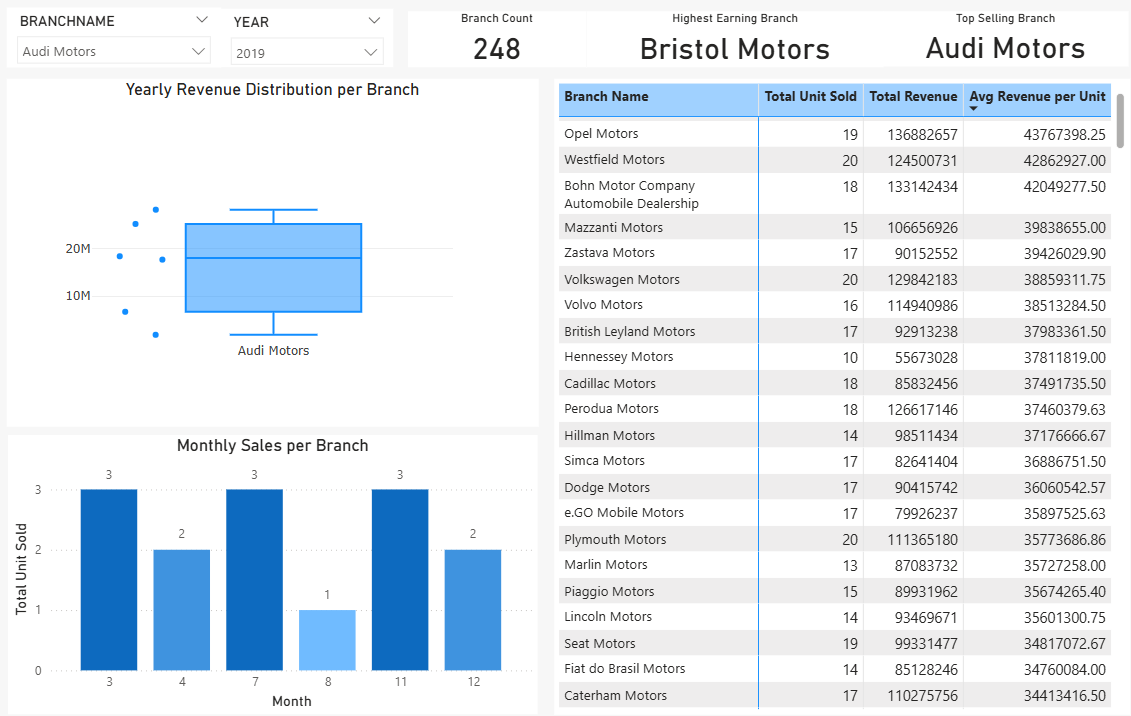

The dashboard page shown, as its layout file describes it:
{"tool":"powerbi","page":{"name":"branch  overview dashboard","canvas":[1150,720],"ordinal":2},"visuals":[{"type":"slicer","fields":{"Values":["DM_BRANCH_SNAPSHOT.BRANCHNAME"]},"box":[8.8,8.1,214.3,60],"z":0,"group":"g1"},{"type":"pivotTable","fields":{"Values":["Sum(DM_BRANCH_SNAPSHOT.TOTAL_SOLD)","Sum(DM_BRANCH_SNAPSHOT.TOTAL_REVENUE)","Sum(DM_BRANCH_SNAPSHOT.AVG_REV_PER_UNIT)"],"Rows":["DM_BRANCH_SNAPSHOT.BRANCHNAME"]},"box":[555.7,78.6,575.7,635.7],"z":0},{"type":"group","id":"g1","title":"Group 1","box":[8.8,8.1,214.3,60],"z":1000},{"type":"slicer","fields":{"Values":["DM_BRANCH_SNAPSHOT.YEAR"]},"box":[222.9,8.6,172.9,58.6],"z":2000},{"type":"card","title":"Branch Count","fields":{"Values":["Count(DM_BRANCH_SNAPSHOT.BRANCHNAME)"]},"box":[410.6,11.3,178,56],"z":3000},{"type":"card","title":"Highest Earning Branch","fields":{"Values":["DM_BRANCH_SNAPSHOT.Highest revenue branch name"]},"box":[588.6,11.3,297,56],"z":4000},{"type":"lineClusteredColumnComboChart","title":"Monthly Sales per Branch","fields":{"Category":["DM_BRANCH_SNAPSHOT.MONTH"],"Y":["Sum(DM_BRANCH_SNAPSHOT.TOTAL_SOLD)"]},"box":[9.9,434.9,529.4,279.5],"z":4000,"group":"g2"},{"type":"card","title":"Top Selling Branch","fields":{"Values":["DM_BRANCH_SNAPSHOT.Best selling branch name"]},"box":[885,11.2,245.6,55.6],"z":5000},{"type":"group","id":"g2","title":"Group 2","box":[8.6,78.6,531.4,635.7],"z":6000},{"type":"boxPloty6C987A9E682A4A859272BFEC966AF372","title":"Yearly Revenue Distribution per Branch","fields":{"category":["DM_BRANCH_SNAPSHOT.BRANCHNAME"],"measure":["DM_BRANCH_SNAPSHOT.TOTAL_REVENUE"]},"box":[8.6,78.6,531.4,348.3],"z":7000,"group":"g2"}]}

Visuals, with their boxes in screenshot pixels (x1, y1, x2, y2), scaled from the page's 1150x720 canvas onto the 1131x716 screenshot:
slicer - DM_BRANCH_SNAPSHOT.BRANCHNAME: rect(9, 8, 219, 68)
pivotTable - Sum(DM_BRANCH_SNAPSHOT.TOTAL_SOLD) x Sum(DM_BRANCH_SNAPSHOT.TOTAL_REVENUE): rect(547, 78, 1113, 710)
"Group 1" group: rect(9, 8, 219, 68)
slicer - DM_BRANCH_SNAPSHOT.YEAR: rect(219, 9, 389, 67)
"Branch Count" card: rect(404, 11, 579, 67)
"Highest Earning Branch" card: rect(579, 11, 871, 67)
"Monthly Sales per Branch" lineClusteredColumnComboChart: rect(10, 432, 530, 710)
"Top Selling Branch" card: rect(870, 11, 1112, 66)
"Group 2" group: rect(8, 78, 531, 710)
"Yearly Revenue Distribution per Branch" boxPloty6C987A9E682A4A859272BFEC966AF372: rect(8, 78, 531, 425)
